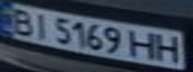1: (66, 19, 87, 48)
5: (48, 15, 72, 45)
6: (84, 21, 106, 52)
9: (103, 25, 127, 55)
B: (6, 6, 39, 36)
H: (151, 33, 187, 64), (127, 29, 160, 61)
I: (27, 11, 54, 40)
